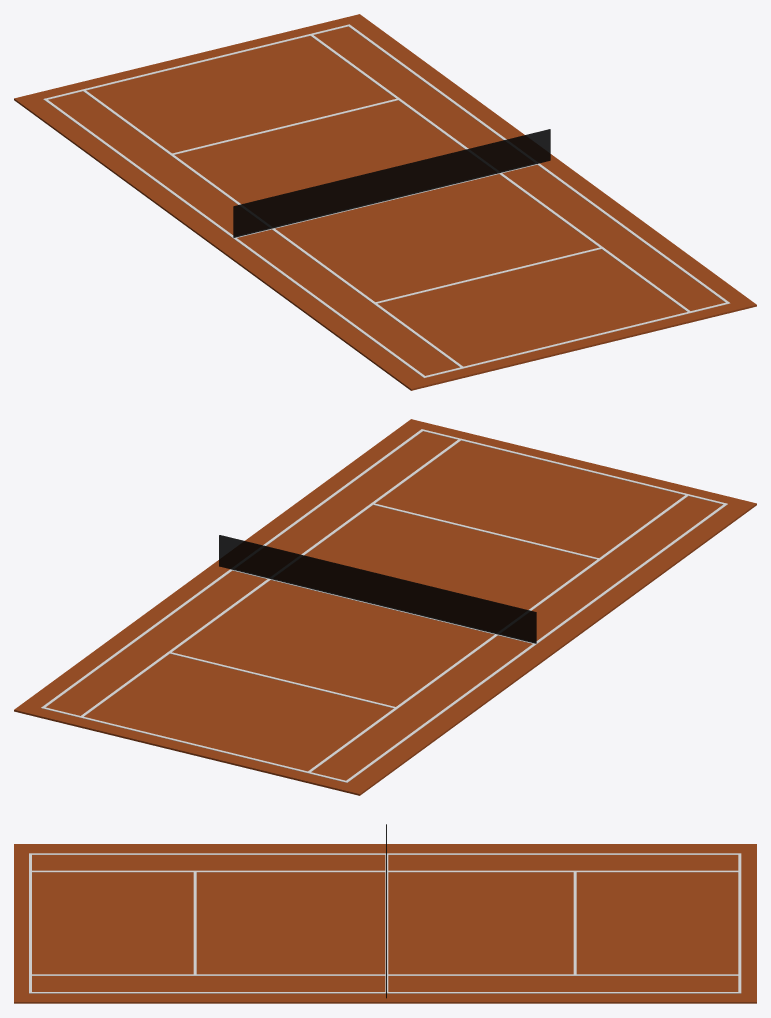
The model's file is 网球场.FBX.
3 renders of one model, top to bottom at view 1: azimuth 30°, elevation 25°; view 2: azimuth 150°, elevation 25°; view 3: azimuth 270°, elevation 25°, orthographic. The views are drawn at different scales.
Visible parts, largest first — view 1: WQC01, WQC00; view 2: WQC01, WQC00; view 3: WQC01.
Boxes of the visible parts, <box> form: WQC01: <box>14,14,756,390</box>; WQC00: <box>233,129,550,237</box>; WQC01: <box>14,419,756,795</box>; WQC00: <box>219,535,536,643</box>; WQC01: <box>14,844,756,1003</box>.
Bounding box in the file's own units: 937 × 86.32 × 1864.
